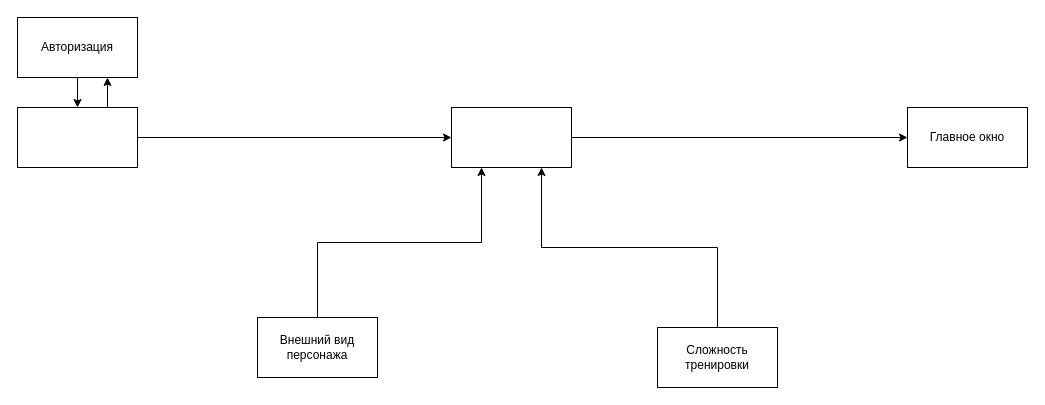
This 1045x405 diagram has some shape labels left out. The box of each missing label's shape, as (x1, y1, x2, y2) in pixels:
Выбор персонажа: (450, 106, 572, 168)
Регистрация: (16, 106, 138, 168)
